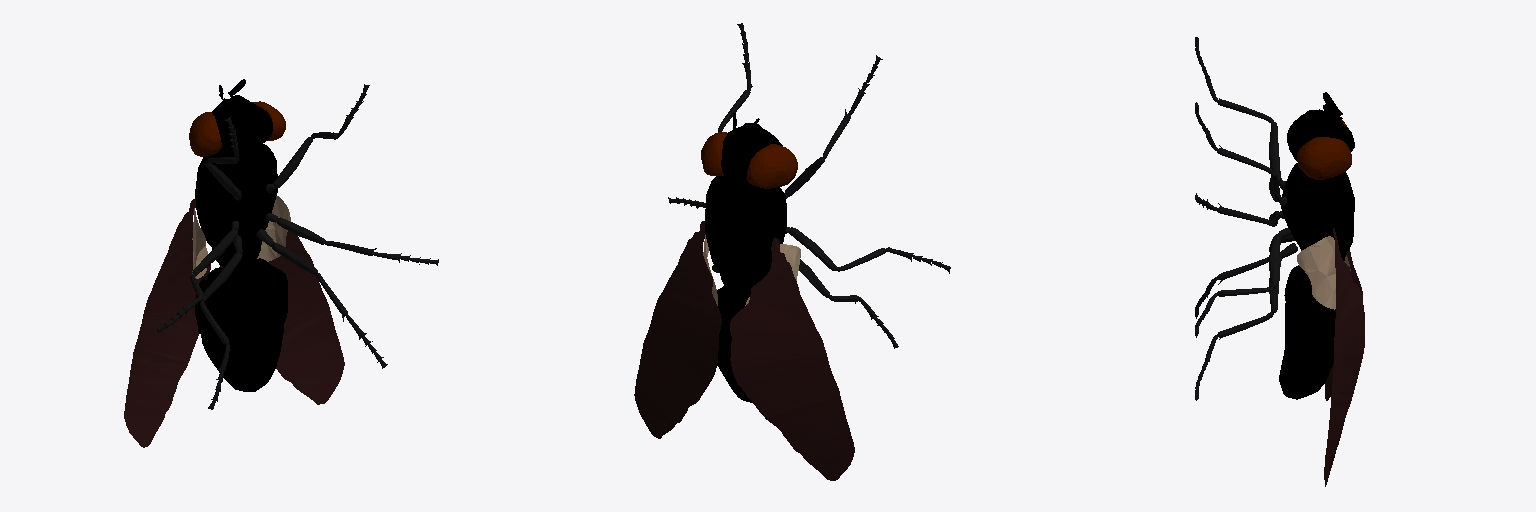
File: FlyTriangulated.obj
3 views of the same model, side by side, from view 1: azimuth 30°, elevation 25°; view 2: azimuth 150°, elevation 25°; view 3: azimuth 270°, elevation 25° (orthographic).
Parts seen in each view (by area): view 1: (null).001; view 2: (null).001; view 3: (null).001.
Boxes of the visible parts, x1=… form: (null).001: x1=124, y1=79, x2=438, y2=447; (null).001: x1=634, y1=23, x2=950, y2=480; (null).001: x1=1195, y1=37, x2=1364, y2=486.
Bounding box in the file's own units: 1.02 × 1.28 × 0.5327.